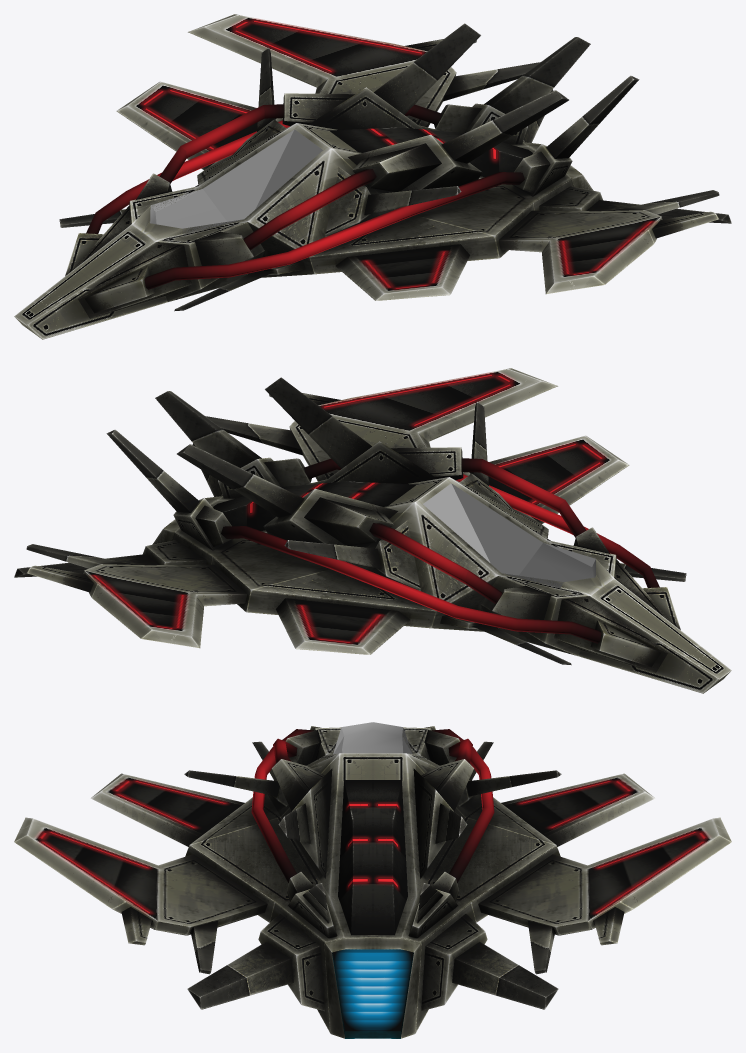
Rendered from New_PlayerShip.fbx.
3 renders of one model, top to bottom at view 1: azimuth 30°, elevation 25°; view 2: azimuth 150°, elevation 25°; view 3: azimuth 270°, elevation 25°, orthographic. The views are drawn at different scales.
Parts seen in each view (by area): view 1: polySurface29, polySurface58, polySurface38, Cockpit_Interior, polySurface55, polySurface35, polySurface31, polySurface59, polySurface39, polySurface54, polySurface65, polySurface40 (+23 smaller); view 2: polySurface29, polySurface38, polySurface58, Cockpit_Interior, polySurface35, polySurface55, polySurface51, polySurface39, polySurface59, polySurface34, polySurface45, polySurface60 (+23 smaller); view 3: polySurface29, polySurface38, polySurface58, polySurface35, polySurface55, polySurface33, polySurface53, polySurface44, polySurface64, Cockpit_Interior, polySurface45, polySurface65 (+18 smaller).
Part boxes in pixels (bbox=[...]): polySurface29: bbox=[14, 118, 593, 339]; polySurface58: bbox=[188, 14, 456, 127]; polySurface38: bbox=[499, 210, 662, 294]; Cockpit_Interior: bbox=[150, 129, 322, 234]; polySurface55: bbox=[116, 81, 276, 169]; polySurface35: bbox=[335, 244, 469, 300]; polySurface31: bbox=[144, 172, 524, 289]; polySurface59: bbox=[374, 23, 480, 114]; polySurface39: bbox=[441, 90, 568, 163]; polySurface54: bbox=[484, 37, 590, 113]; polySurface65: bbox=[308, 87, 423, 129]; polySurface40: bbox=[352, 143, 441, 191]; polySurface29: bbox=[152, 472, 731, 693]; polySurface38: bbox=[289, 368, 557, 481]; polySurface58: bbox=[83, 564, 246, 648]; Cockpit_Interior: bbox=[423, 483, 595, 587]; polySurface35: bbox=[469, 435, 629, 523]; polySurface55: bbox=[276, 598, 410, 654]; polySurface51: bbox=[221, 526, 601, 643]; polySurface39: bbox=[265, 377, 371, 468]; polySurface59: bbox=[177, 444, 304, 517]; polySurface34: bbox=[155, 391, 261, 467]; polySurface45: bbox=[322, 441, 437, 483]; polySurface60: bbox=[304, 497, 393, 545]; polySurface29: bbox=[185, 727, 560, 1038]; polySurface38: bbox=[14, 817, 267, 935]; polySurface58: bbox=[478, 817, 731, 935]; polySurface35: bbox=[90, 773, 244, 846]; polySurface55: bbox=[501, 773, 655, 846]; polySurface33: bbox=[187, 942, 293, 1009]; polySurface53: bbox=[452, 942, 558, 1009]; polySurface44: bbox=[258, 914, 324, 1011]; polySurface64: bbox=[421, 914, 487, 1011]; Cockpit_Interior: bbox=[333, 722, 412, 754]; polySurface45: bbox=[292, 768, 332, 878]; polySurface65: bbox=[413, 768, 453, 878].
Size of the model in its own units: 2014 by 591 by 2070.
